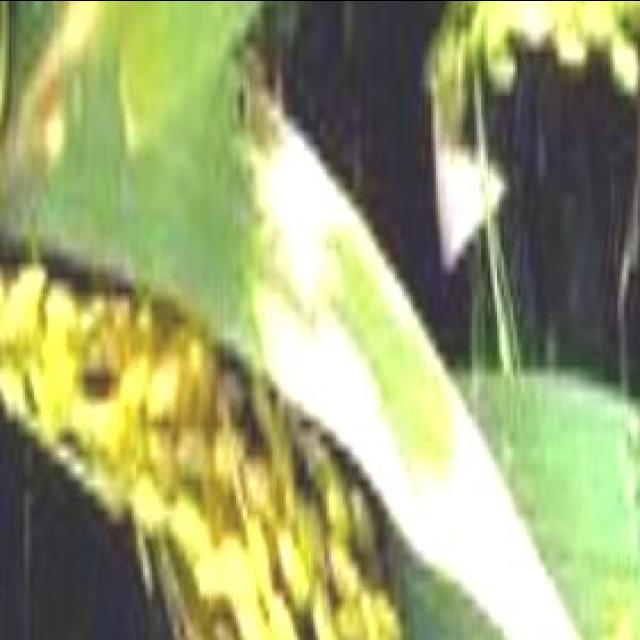Bacterial_Leaf_Blight: (20, 105, 518, 468)
